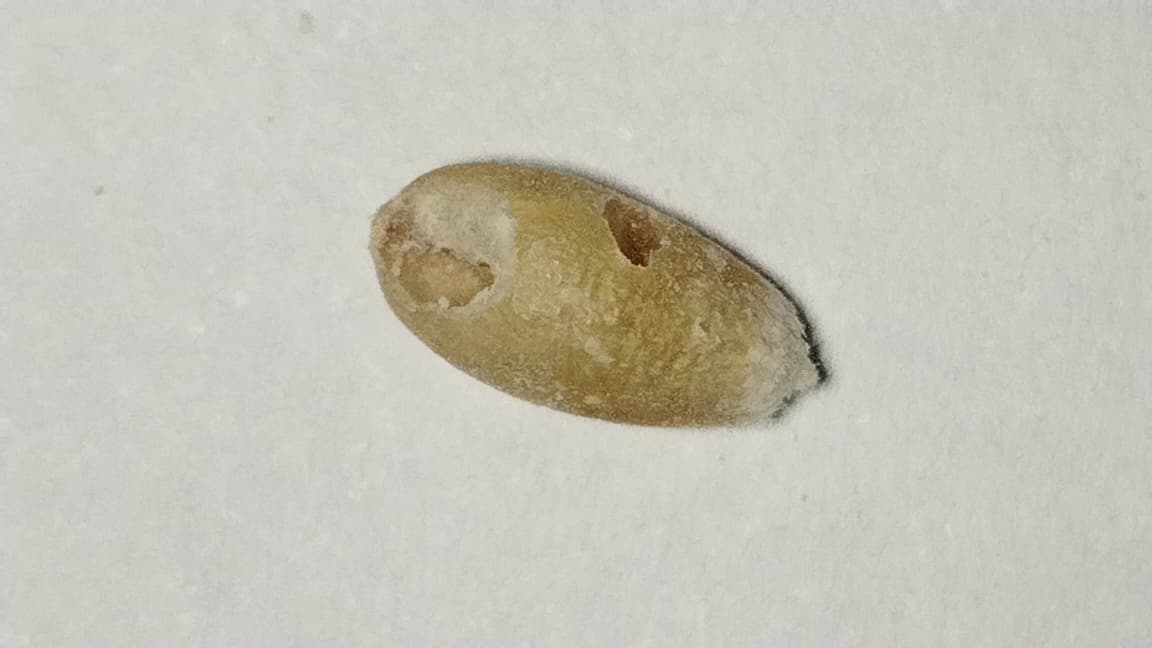damage: (372, 164, 800, 419)
insectdamage: (380, 186, 531, 316), (593, 193, 676, 271)
